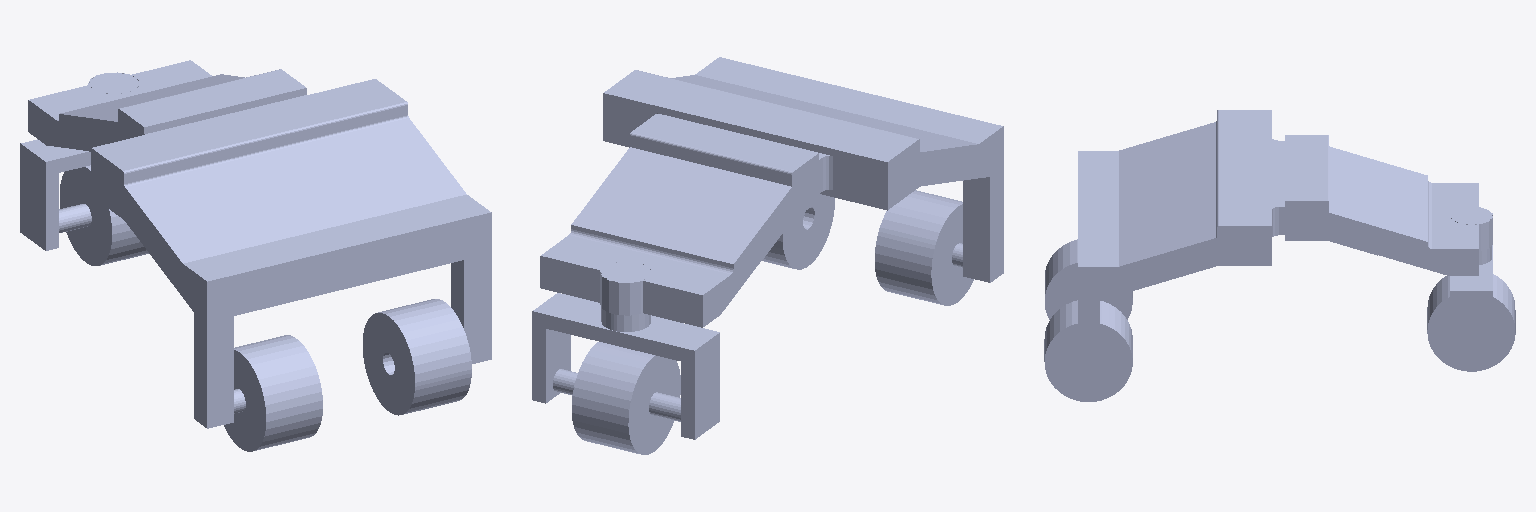
robot.urdf — Assem2:
<?xml version="1.0" encoding="utf-8"?>
<!-- This URDF was automatically created by SolidWorks to URDF Exporter! Originally created by [author] ([email redacted]) 
     Commit Version: 1.5.1-0-g916b5db  Build Version: 1.5.7152.31018
     For more information, please see http://wiki.ros.org/sw_urdf_exporter -->
<robot name="Assem2">
  <link name="base_link">
    <inertial>
      <origin xyz="4.2873E-08 -0.058195 -0.0086166" rpy="0 0 0" />
      <mass value="11.049" />
      <inertia ixx="0.31891" ixy="1.2437E-08" ixz="-2.3489E-09" iyy="0.14912" iyz="-0.017023" izz="0.43572" />
    </inertial>
    <visual>
      <origin xyz="0 0 0" rpy="0 0 0" />
      <geometry>
        <mesh
          filename="package://Assem2/meshes/base_link.STL" />
      </geometry>
      <material name="">
        <color rgba="0.79216 0.81961 0.93333 1" />
      </material>
    </visual>
    <collision>
      <origin xyz="0 0 0" rpy="0 0 0" />
      <geometry>
        <mesh filename="package://Assem2/meshes/base_link.STL" />
      </geometry>
    </collision>
  </link>
  <link name="front_steering">
    <inertial>
      <origin xyz="-2.2204E-16 5.5511E-17 0.098632" rpy="0 0 0" />
      <mass value="0.78452" />
      <inertia ixx="0.0061783" ixy="-8.2078E-19" ixz="3.7405E-18" iyy="0.0018851" iyz="-1.2848E-19" izz="0.0048191" />
    </inertial>
    <visual>
      <origin xyz="0 0 0" rpy="0 0 0" />
      <geometry>
        <mesh filename="package://Assem2/meshes/front_steering.STL" />
      </geometry>
      <material name="">
        <color rgba="0.79216 0.81961 0.93333 1" />
      </material>
    </visual>
    <collision>
      <origin xyz="0 0 0" rpy="0 0 0" />
      <geometry>
        <mesh filename="package://Assem2/meshes/front_steering.STL" />
      </geometry>
    </collision>
  </link>
  <joint name="joint_1" type="revolute">
    <origin xyz="0 0.29502 -0.0099786" rpy="3.1416 0 1.5708" />
    <parent link="base_link" />
    <child link="front_steering" />
    <axis xyz="0 0 1" />
    <limit lower="-6.28" upper="6.28" effort="40" velocity="40" />
  </joint>
  <link name="front_wheel">
    <inertial>
      <origin xyz="0 1.1102E-16 5.5511E-17" rpy="0 0 0" />
      <mass value="1.2533" />
      <inertia ixx="0.0021004" ixy="8.1315E-20" ixz="-1.3177E-19" iyy="0.0021004" iyz="5.4947E-23" izz="0.0027449" />
    </inertial>
    <visual>
      <origin xyz="0 0 0" rpy="0 0 0" />
      <geometry>
        <mesh filename="package://Assem2/meshes/front_wheel.STL" />
      </geometry>
      <material name="">
        <color rgba="0.79216 0.81961 0.93333 1" />
      </material>
    </visual>
    <collision>
      <origin xyz="0 0 0" rpy="0 0 0" />
      <geometry>
        <mesh filename="package://Assem2/meshes/front_wheel.STL" />
      </geometry>
    </collision>
  </link>
  <joint name="joint_2" type="revolute">
    <origin xyz="0 0 0.18888" rpy="1.5708 1.5389 0" />
    <parent link="front_steering" />
    <child link="front_wheel" />
    <axis xyz="0 0 -1" />
    <limit lower="-200000000000" upper="200000000000" effort="40" velocity="40" />
  </joint>
  <link name="rear_rightwheel">
    <inertial>
      <origin xyz="-3.4694E-18 2.7756E-17 -0.044459" rpy="0 0 0" />
      <mass value="1.2533" />
      <inertia ixx="0.020521" ixy="-8.1315E-10" ixz="-8.1715E-10" iyy="0.020521" iyz="-1.5541E-12" izz="0.027371" />
    </inertial>
    <visual>
      <origin xyz="0 0 0" rpy="0 0 0" />
      <geometry>
        <mesh filename="package://Assem2/meshes/rear_rightwheel.STL" />
      </geometry>
      <material name="">
        <color rgba="0.79216 0.81961 0.93333 1" />
      </material>
    </visual>
    <collision>
      <origin xyz="0 0 0" rpy="0 0 0" />
      <geometry>
        <mesh filename="package://Assem2/meshes/rear_rightwheel.STL" />
      </geometry>
    </collision>
  </link>
  <joint name="joint_3" type="revolute">
    <origin xyz="0.068 -0.29004 -0.19886" rpy="1.5708 0.077642 -1.5708" />
    <parent link="base_link" />
    <child link="rear_rightwheel" />
    <axis xyz="0 0 -1" />
    <limit lower="-200000000000000" upper="2000000000000" effort="40" velocity="40" />
  </joint>
  <link name="rear_leftwheel">
    <inertial>
      <origin xyz="1.3878E-17 2.7756E-17 -0.044459" rpy="0 0 0" />
      <mass value="1.2533" />
      <inertia ixx="0.020521" ixy="-3.2526E-10" ixz="8.0455E-10" iyy="0.020521" iyz="-1.3786E-2" izz="0.027371" />
    </inertial>
    <visual>
      <origin xyz="0 0 0" rpy="0 0 0" />
      <geometry>
        <mesh filename="package://Assem2/meshes/rear_leftsteering.STL" />
      </geometry>
      <material name="">
        <color rgba="0.79216 0.81961 0.93333 1" />
      </material>
    </visual>
    <collision>
      <origin xyz="0 0 0" rpy="0 0 0" />
      <geometry>
        <mesh filename="package://Assem2/meshes/rear_leftsteering.STL" />
      </geometry>
    </collision>
  </link>
  <joint name="joint_4" type="revolute">
    <origin xyz="-0.068 -0.29004 -0.19886" rpy="1.5708 -0.56509 1.5708" />
    <parent link="base_link" />
    <child link="rear_leftwheel" />
    <axis xyz="0 0 -1" />
    <limit lower="-2000000000000" upper="200000000000" effort="40" velocity="40" />
  </joint>

  <gazebo>
    <plugin name="gazebo_ros_control" filename="libgazebo_ros_control.so">
      <robotNamespace>/simple_model</robotNamespace>
    </plugin>
  </gazebo>

  <!-- transmission -->
  <transmission name="steering">
    <type>transmission_interface/SimpleTransmission</type>
    <actuator name="motor1">
      <mechanicalReduction>1</mechanicalReduction>
    </actuator>
    <joint name="joint_1">
      <hardwareInterface>EffortJointInterface</hardwareInterface>
    </joint>
  </transmission>

  <transmission name="front_motor">
    <type>transmission_interface/SimpleTransmission</type>
    <actuator name="motor2">
      <mechanicalReduction>1</mechanicalReduction>
    </actuator>
    <joint name="joint_2">
      <hardwareInterface>EffortJointInterface</hardwareInterface>
    </joint>
  </transmission>

  <transmission name="right_wheel">
    <type>transmission_interface/SimpleTransmission</type>
    <actuator name="motor3">
      <mechanicalReduction>1</mechanicalReduction>
    </actuator>
    <joint name="joint_3">
      <hardwareInterface>EffortJointInterface</hardwareInterface>
    </joint>
  </transmission>

  <transmission name="left_wheel">
    <type>transmission_interface/SimpleTransmission</type>
    <actuator name="motor4">
      <mechanicalReduction>1</mechanicalReduction>
    </actuator>
    <joint name="joint_4">
      <hardwareInterface>EffortJointInterface</hardwareInterface>
    </joint>
  </transmission>

  
</robot>

--- Facts derived from the render (not from the file) ---
Views: 3 orthographic renders of the robot side by side, from view 1: azimuth 30°, elevation 25°; view 2: azimuth 150°, elevation 25°; view 3: azimuth 270°, elevation 25°.
Model Assem2 with 5 links and 4 joints (4 revolute), rooted at base_link, posed every joint at zero.
Visible links, largest first — view 1: base_link, rear_rightwheel, rear_leftwheel, front_steering, front_wheel; view 2: base_link, front_steering, front_wheel, rear_leftwheel, rear_rightwheel; view 3: base_link, rear_rightwheel, front_steering, front_wheel, rear_leftwheel.
Boxes of the visible links, left/top/right/bottom form: base_link: left=28, top=60, right=491, bottom=428; rear_rightwheel: left=363, top=299, right=471, bottom=415; rear_leftwheel: left=195, top=335, right=322, bottom=451; front_steering: left=20, top=73, right=138, bottom=250; front_wheel: left=27, top=165, right=148, bottom=265; base_link: left=540, top=57, right=1003, bottom=327; front_steering: left=532, top=262, right=719, bottom=439; front_wheel: left=553, top=342, right=712, bottom=454; rear_leftwheel: left=875, top=190, right=1002, bottom=305; rear_rightwheel: left=762, top=194, right=834, bottom=269; base_link: left=1078, top=110, right=1492, bottom=389; rear_rightwheel: left=1044, top=300, right=1132, bottom=401; front_steering: left=1450, top=207, right=1492, bottom=364; front_wheel: left=1427, top=274, right=1515, bottom=371; rear_leftwheel: left=1045, top=239, right=1132, bottom=319.
Bounding box of the posed robot: 0.42 × 0.7199 × 0.3245 m (x, y, z).
5 mesh visuals loaded from 5 distinct referenced files (5 binary STL).
